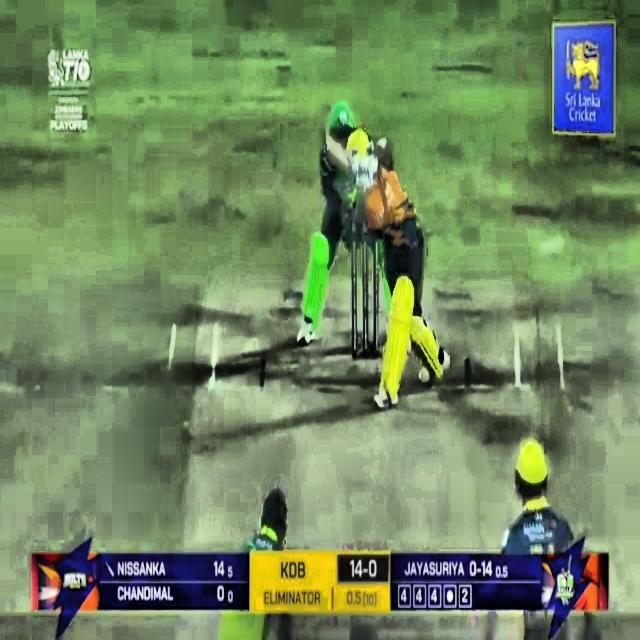Left-stump: (352, 242, 357, 358)
Middle-stump: (363, 241, 368, 356)
Right-stump: (375, 242, 377, 358)
stumps: (350, 238, 379, 359)
